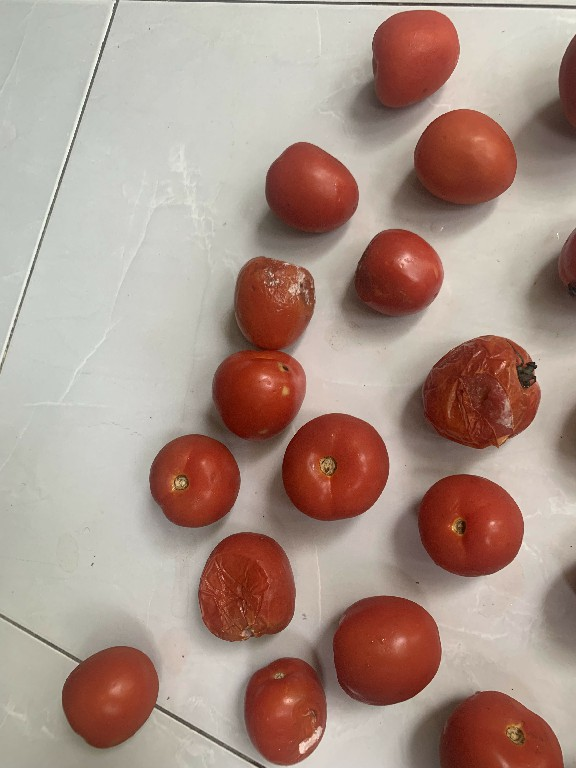NG: (417, 328, 551, 453), (191, 524, 306, 646), (243, 655, 339, 768), (202, 344, 308, 445), (226, 246, 319, 355)
OK: (408, 102, 534, 218), (324, 592, 444, 708), (412, 470, 533, 584), (52, 640, 168, 755), (280, 408, 390, 524), (257, 132, 367, 244), (435, 680, 563, 768), (138, 429, 246, 531), (362, 4, 462, 113), (347, 220, 442, 320)
